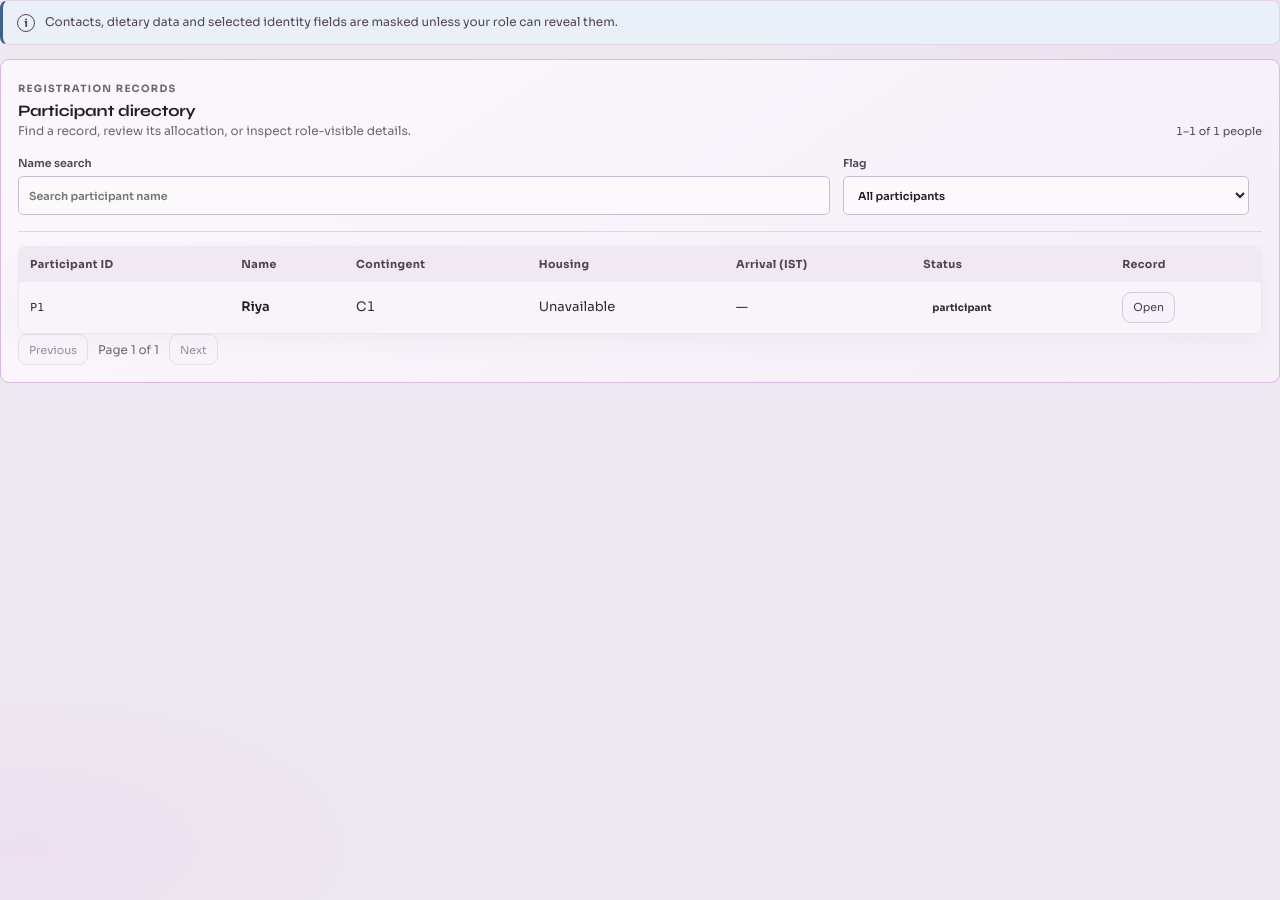
it: Participants › requires a reason before making a sensitive reveal request
The width and height of the screenshot is (1280, 900).
Click the button "Open". click: {"x": 1149, "y": 308}
box: [1122,292,1175,323]
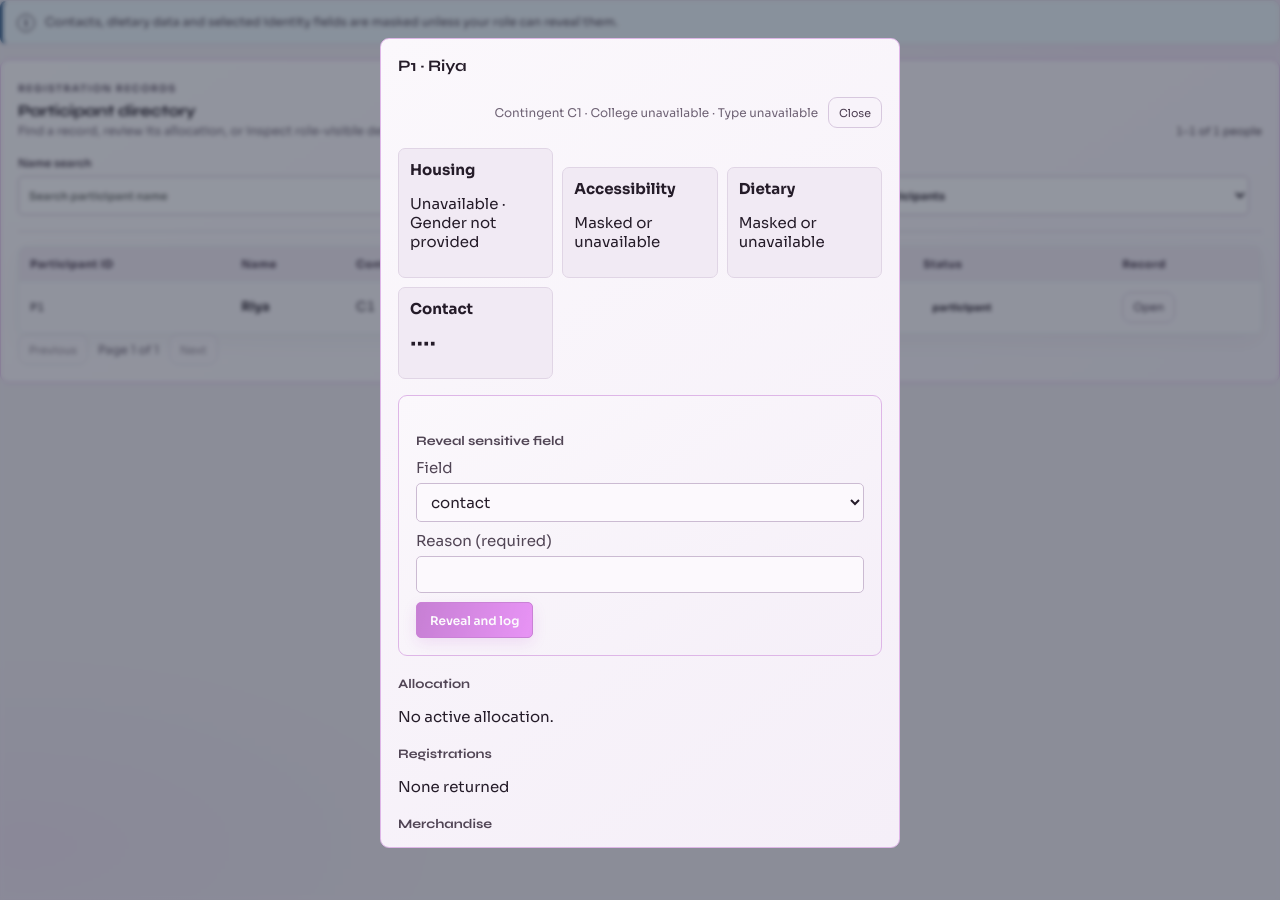
Check: the dialog is shown, box [380,38,900,848]
Check: the button "Reveal and log" is disabled, box [416,602,533,638]
Type "Call to verify" into the field labelled "Reason (required)". click: {"x": 640, "y": 574}
box: [416,556,864,592]
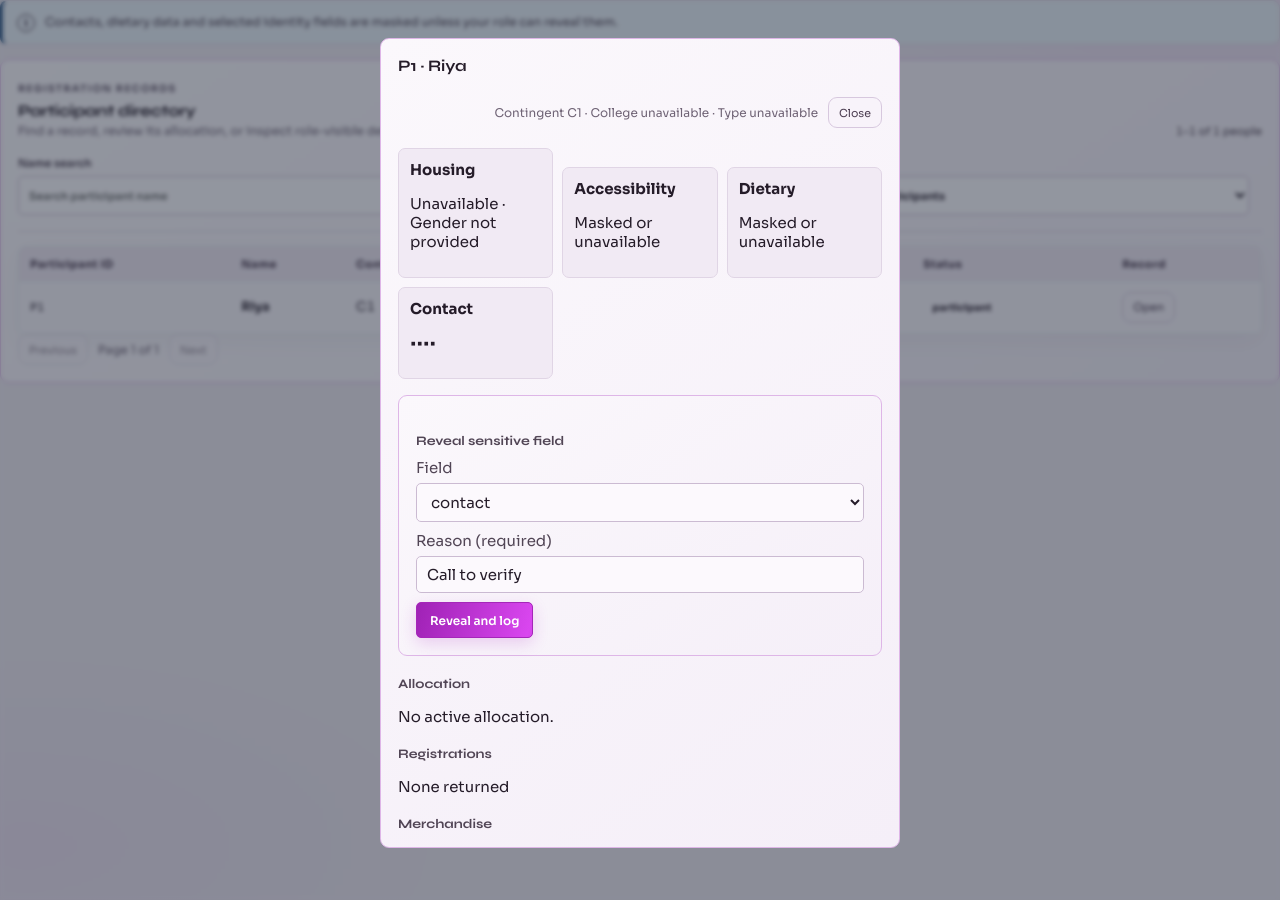
Click the button "Reveal and log". click: {"x": 475, "y": 620}
box: [416,602,533,638]
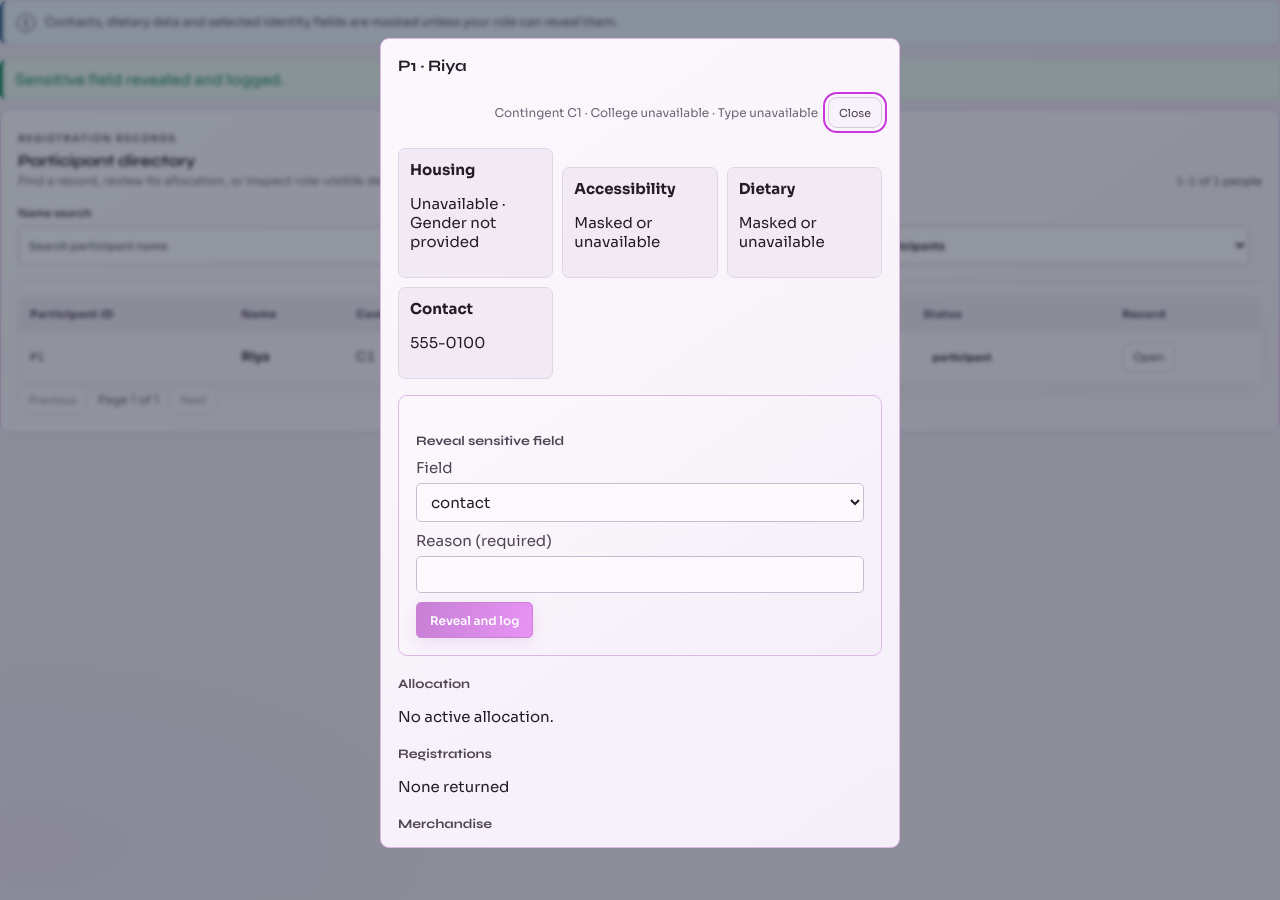
Check: the text "555-0100" is shown, box [410,332,485,352]
